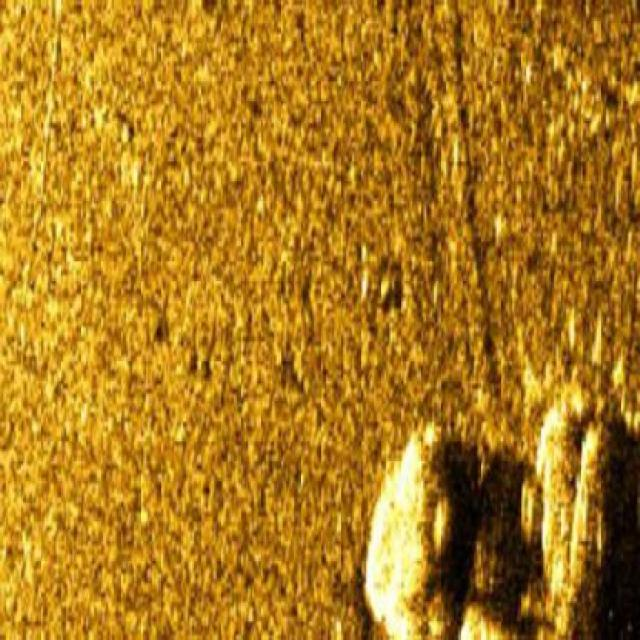bedrock group: (358, 387, 639, 639)
